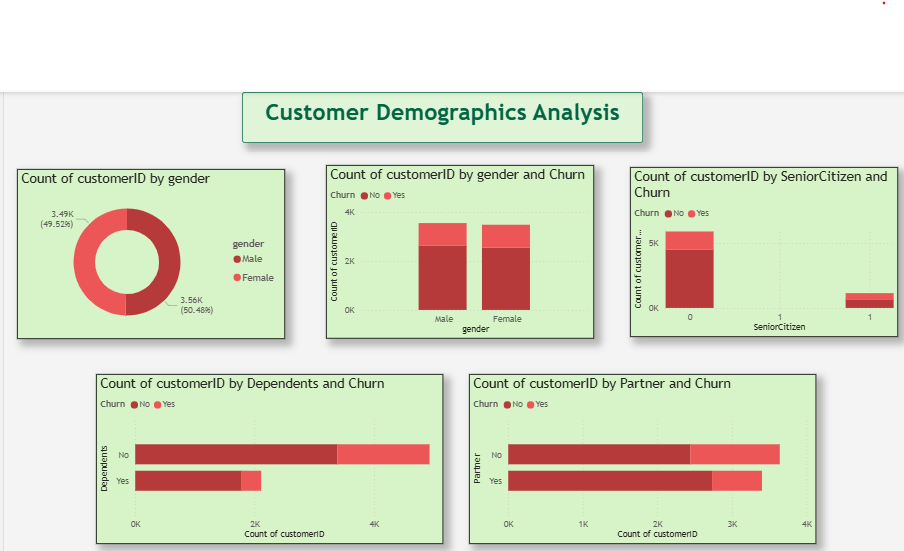

This screenshot's page, from the dashboard's own definition file:
{"tool":"powerbi","page":{"name":"Customer Demographics Analysis","canvas":[1280,720],"ordinal":1},"visuals":[{"type":"textbox","box":[327.6,0,551.9,70.2],"z":0},{"type":"donutChart","fields":{"Category":["telco.gender"],"Y":["CountNonNull(telco.customerID)"]},"box":[17.9,106,368.9,234],"z":1},{"type":"columnChart","fields":{"Category":["telco.gender"],"Y":["CountNonNull(telco.customerID)"],"Series":["telco.Churn"]},"box":[443.2,100.5,368.9,239.5],"z":2},{"type":"columnChart","fields":{"Category":["telco.SeniorCitizen"],"Y":["CountNonNull(telco.customerID)"],"Series":["telco.Churn"]},"box":[861.6,103.2,368.9,234],"z":3},{"type":"barChart","fields":{"Category":["telco.Partner"],"Y":["CountNonNull(telco.customerID)"],"Series":["telco.Churn"]},"box":[640,388.1,477.6,234],"z":4},{"type":"barChart","fields":{"Category":["telco.Dependents"],"Y":["CountNonNull(telco.customerID)"],"Series":["telco.Churn"]},"box":[126.6,388.1,477.6,234],"z":5}]}

Visuals, with their boxes on the page's 1280x720 design canvas (x1, y1, x2, y2). These are canvas units, not pixel positions in the 904x551 screenshot, which may show the page scaled, cropped or inside an application window:
textbox: [left=328, top=0, right=880, bottom=70]
donutChart - telco.gender x CountNonNull(telco.customerID): [left=18, top=106, right=387, bottom=340]
columnChart - telco.gender x CountNonNull(telco.customerID): [left=443, top=100, right=812, bottom=340]
columnChart - telco.SeniorCitizen x CountNonNull(telco.customerID): [left=862, top=103, right=1230, bottom=337]
barChart - telco.Partner x CountNonNull(telco.customerID): [left=640, top=388, right=1118, bottom=622]
barChart - telco.Dependents x CountNonNull(telco.customerID): [left=127, top=388, right=604, bottom=622]
